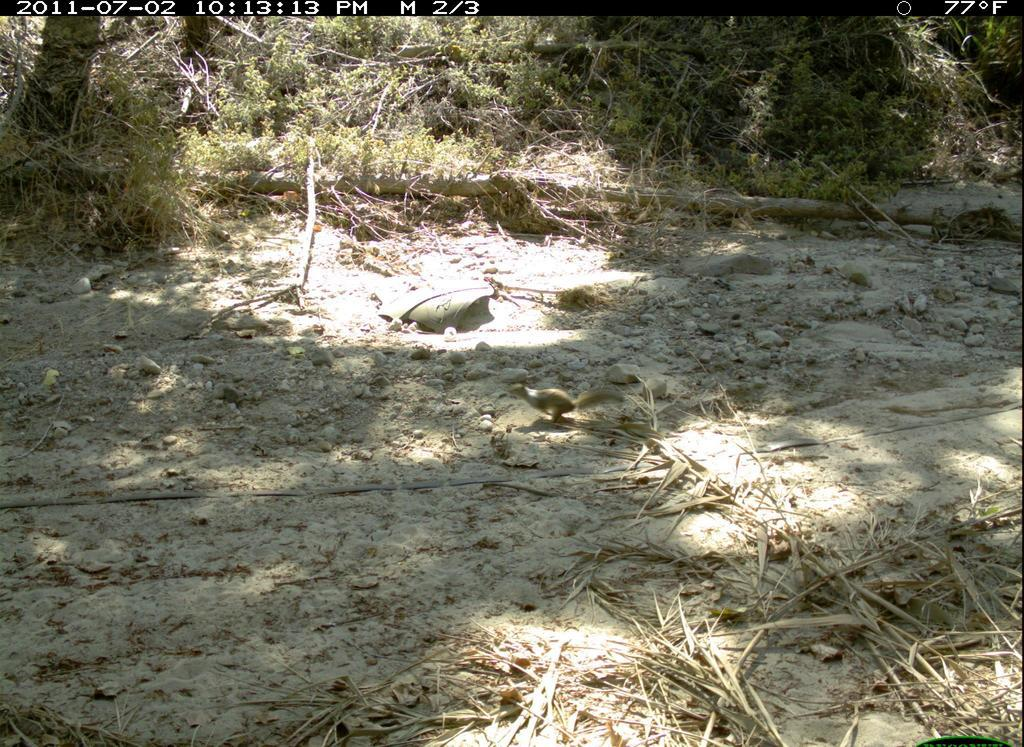squirrel: (497, 365, 634, 440)
